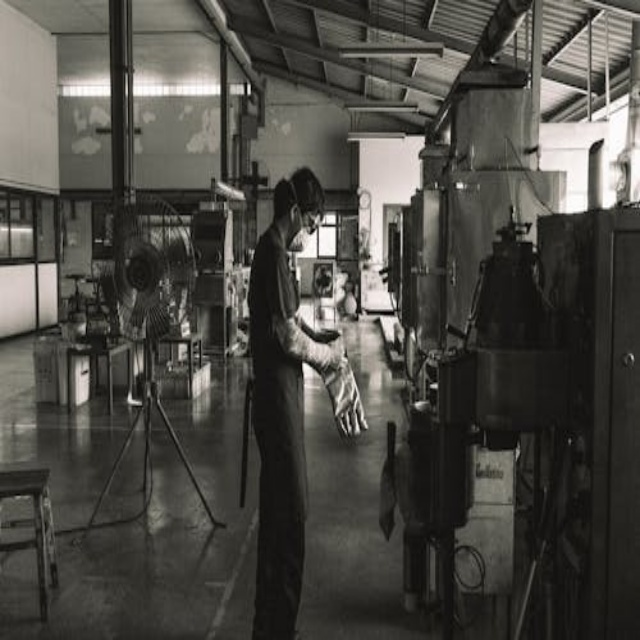Gafas: (297, 209, 319, 238)
Guantes: (322, 353, 368, 439), (295, 325, 348, 376)
Mascara: (287, 221, 305, 252)
